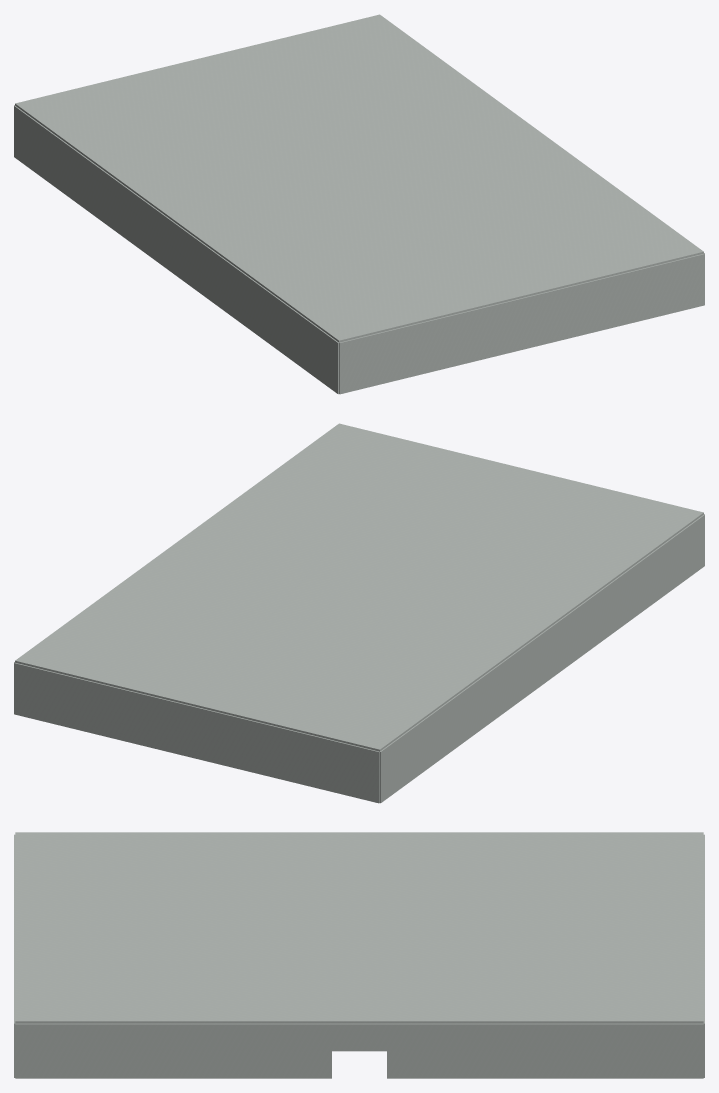
Rendered from G8_SYNTHESIS_PLANT_r001_unbatched.glb.
The picture shows the model from 3 angles, top to bottom: view 1: azimuth 30°, elevation 25°; view 2: azimuth 150°, elevation 25°; view 3: azimuth 270°, elevation 25°; orthographic projection. The views are drawn at different scales.
Visible parts, largest first — view 1: G8S_PlantEnclosure_LocalRoof-95, G8S_PlantEnclosure_LocalRoof-85, G8S_PlantEnclosure_LocalRoof-75, G8S_PlantEnclosure_LocalRoof-65, G8S_PlantEnclosure_EndWall30, G8S_PlantEnclosure_LongWall(-95, 0); view 2: G8S_PlantEnclosure_LocalRoof-95, G8S_PlantEnclosure_LocalRoof-85, G8S_PlantEnclosure_LocalRoof-75, G8S_PlantEnclosure_LocalRoof-65, G8S_PlantEnclosure_EndWall-30, G8S_PlantEnclosure_LongWall(-95, 0); view 3: G8S_PlantEnclosure_LocalRoof-85, G8S_PlantEnclosure_LocalRoof-95, G8S_PlantEnclosure_LocalRoof-75, G8S_PlantEnclosure_LocalRoof-65, G8S_PlantEnclosure_LongWall(-56, 0), G8S_PlantEnclosure_LongWall(-56, 1), G8S_PlantEnclosure_EastArrivalHeader, G8S_PlantEnclosure_EndWall-30, G8S_PlantEnclosure_EndWall30.
Part boxes in pixels (box(x1,y1,x2,y2)): G8S_PlantEnclosure_LocalRoof-95: box(15, 80, 432, 342); G8S_PlantEnclosure_LocalRoof-85: box(109, 58, 526, 319); G8S_PlantEnclosure_LocalRoof-75: box(202, 35, 619, 296); G8S_PlantEnclosure_LocalRoof-65: box(296, 14, 703, 273); G8S_PlantEnclosure_EndWall30: box(339, 253, 704, 394); G8S_PlantEnclosure_LongWall(-95, 0): box(14, 105, 338, 394); G8S_PlantEnclosure_LocalRoof-95: box(286, 489, 703, 751); G8S_PlantEnclosure_LocalRoof-85: box(192, 467, 609, 728); G8S_PlantEnclosure_LocalRoof-75: box(99, 444, 516, 705); G8S_PlantEnclosure_LocalRoof-65: box(15, 423, 422, 682); G8S_PlantEnclosure_EndWall-30: box(14, 662, 379, 803); G8S_PlantEnclosure_LongWall(-95, 0): box(380, 514, 704, 803); G8S_PlantEnclosure_LocalRoof-85: box(15, 880, 703, 929); G8S_PlantEnclosure_LocalRoof-95: box(15, 832, 703, 880); G8S_PlantEnclosure_LocalRoof-75: box(15, 929, 703, 977); G8S_PlantEnclosure_LocalRoof-65: box(15, 977, 703, 1023); G8S_PlantEnclosure_LongWall(-56, 0): box(387, 1023, 703, 1078); G8S_PlantEnclosure_LongWall(-56, 1): box(15, 1023, 331, 1078); G8S_PlantEnclosure_EastArrivalHeader: box(332, 1023, 386, 1051); G8S_PlantEnclosure_EndWall-30: box(703, 834, 704, 1077); G8S_PlantEnclosure_EndWall30: box(14, 834, 15, 1077).
Bounding box in the file's own units: 39.22 × 5.45 × 60.22.
7 materials, 6 textured.
